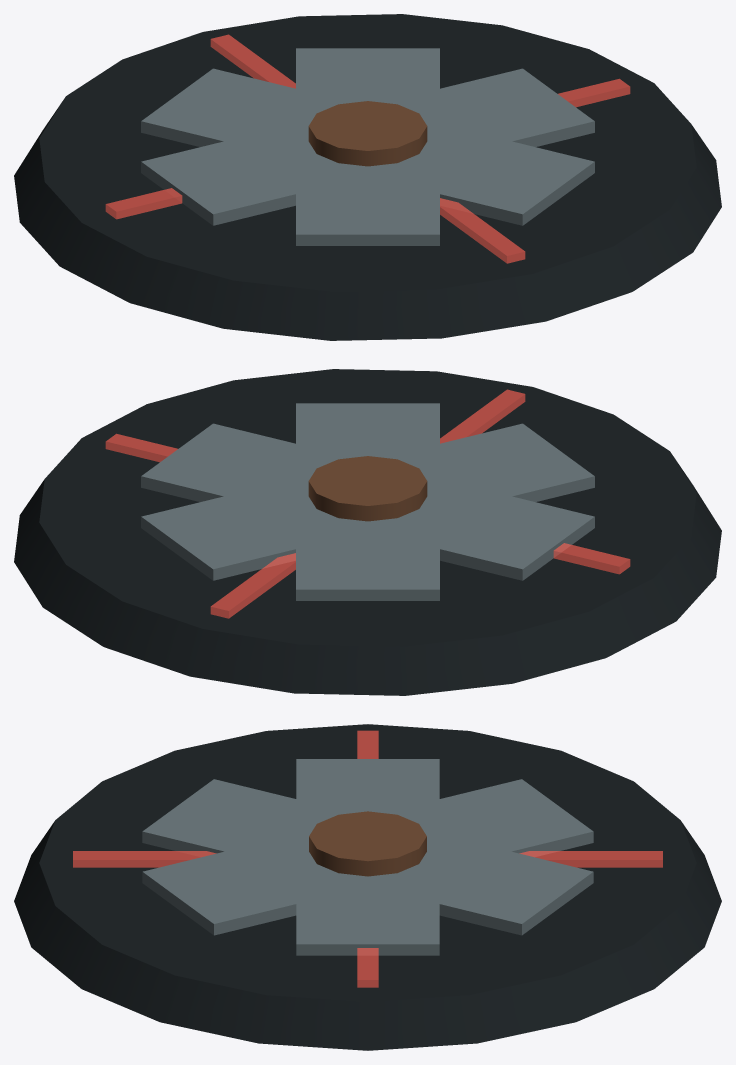
File: hp_room_rm_core_incinerator_hatch.glb
The picture shows the model from 3 angles, top to bottom: view 1: azimuth 30°, elevation 25°; view 2: azimuth 150°, elevation 25°; view 3: azimuth 270°, elevation 25°; orthographic projection.
Parts seen in each view (by area): view 1: hatch_rim, petal_1, petal_3, petal_2, petal_0, petal_4, petal_5, hub_cap, rim_red_b, rim_red_a; view 2: hatch_rim, petal_3, petal_5, petal_4, petal_2, petal_0, petal_1, hub_cap, rim_red_b, rim_red_a; view 3: hatch_rim, petal_2, petal_4, petal_5, petal_0, petal_1, petal_3, hub_cap, rim_red_b, rim_red_a.
Boxes of the visible parts, <box> form: hatch_rim: <box>14,14,721,340</box>; petal_1: <box>332,120,594,225</box>; petal_3: <box>141,120,401,225</box>; petal_2: <box>296,160,439,245</box>; petal_0: <box>383,68,594,164</box>; petal_4: <box>141,68,352,146</box>; petal_5: <box>296,48,439,102</box>; hub_cap: <box>308,101,427,166</box>; rim_red_b: <box>210,34,525,263</box>; rim_red_a: <box>105,79,630,219</box>; hatch_rim: <box>14,369,721,695</box>; petal_3: <box>332,475,594,580</box>; petal_5: <box>141,475,401,580</box>; petal_4: <box>296,517,439,600</box>; petal_2: <box>383,423,594,519</box>; petal_0: <box>141,423,352,501</box>; petal_1: <box>296,403,439,466</box>; hub_cap: <box>308,456,427,521</box>; rim_red_b: <box>210,389,525,618</box>; rim_red_a: <box>105,434,630,574</box>; hatch_rim: <box>14,724,721,1050</box>; petal_2: <box>142,779,351,877</box>; petal_4: <box>384,779,593,877</box>; petal_5: <box>332,851,593,935</box>; petal_0: <box>296,869,439,955</box>; petal_1: <box>142,851,403,935</box>; petal_3: <box>296,759,439,817</box>; hub_cap: <box>309,811,426,876</box>; rim_red_b: <box>73,851,662,867</box>; rim_red_a: <box>357,730,378,987</box>.
Size of the model in its own units: 1.68 by 0.17 by 1.68.
